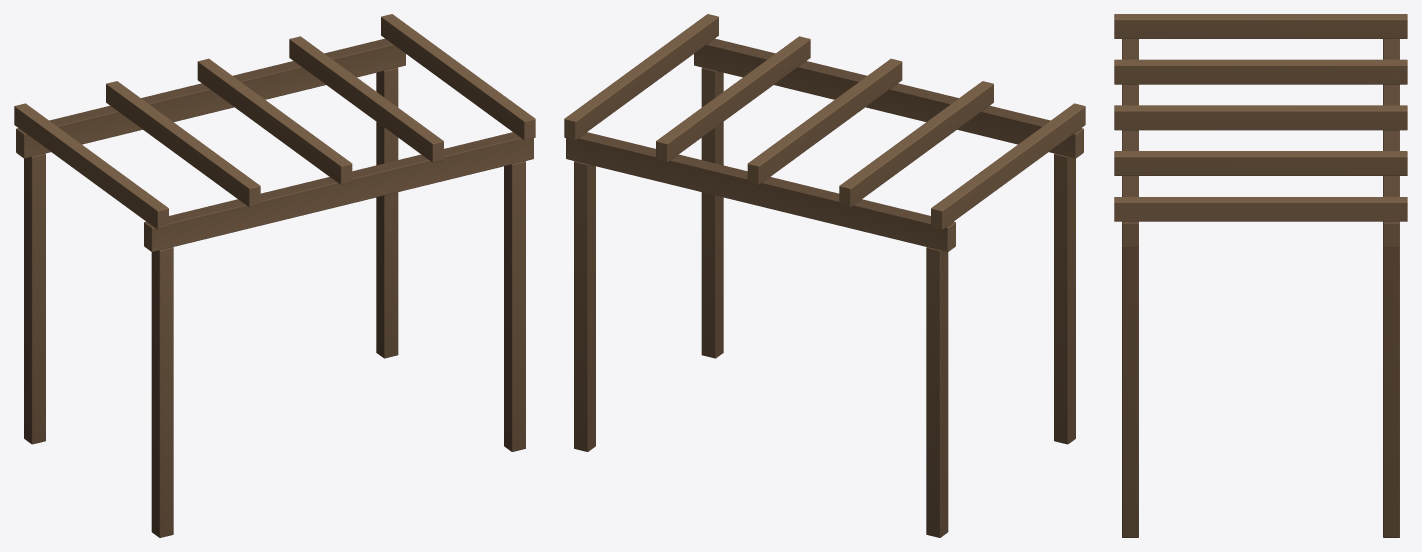
File: pergola.glb
3 views of the same model, side by side, from view 1: azimuth 30°, elevation 25°; view 2: azimuth 150°, elevation 25°; view 3: azimuth 270°, elevation 25° (orthographic). The views are drawn at different scales.
Visible parts, largest first — view 1: beam1, beam0, post3, post1, post2, post0, rafter2, rafter0, rafter1, rafter3, rafter4; view 2: beam0, beam1, post1, post3, post0, post2, rafter2, rafter0, rafter1, rafter3, rafter4; view 3: rafter2, rafter3, rafter0, rafter1, rafter4, post0, post2, beam0, beam1.
Boxes of the visible parts, box(x1,y1,x2,y2) form: beam1: box(144, 132, 533, 251); beam0: box(16, 38, 405, 158); post3: box(151, 247, 173, 537); post1: box(24, 153, 45, 444); post2: box(504, 161, 525, 451); post0: box(376, 67, 398, 358); rafter2: box(197, 58, 352, 184); rafter0: box(381, 14, 535, 140); rafter1: box(289, 36, 443, 162); rafter3: box(106, 81, 260, 207); rafter4: box(14, 103, 168, 229); beam0: box(566, 132, 955, 251); beam1: box(694, 38, 1083, 158); post1: box(926, 247, 948, 537); post3: box(1054, 153, 1075, 444); post0: box(574, 161, 595, 451); post2: box(701, 67, 723, 358); rafter2: box(747, 58, 902, 184); rafter0: box(564, 14, 718, 140); rafter1: box(656, 36, 810, 162); rafter3: box(839, 81, 993, 207); rafter4: box(931, 103, 1085, 229); rafter2: box(1114, 105, 1407, 130); rafter3: box(1114, 59, 1407, 84); rafter0: box(1114, 197, 1407, 221); rafter1: box(1114, 151, 1407, 175); rafter4: box(1114, 14, 1407, 38); post0: box(1383, 247, 1399, 537); post2: box(1122, 247, 1138, 537); beam0: box(1383, 39, 1399, 247); beam1: box(1122, 39, 1138, 247).
Size of the model in its own units: 2.92 by 2.42 by 1.9.
